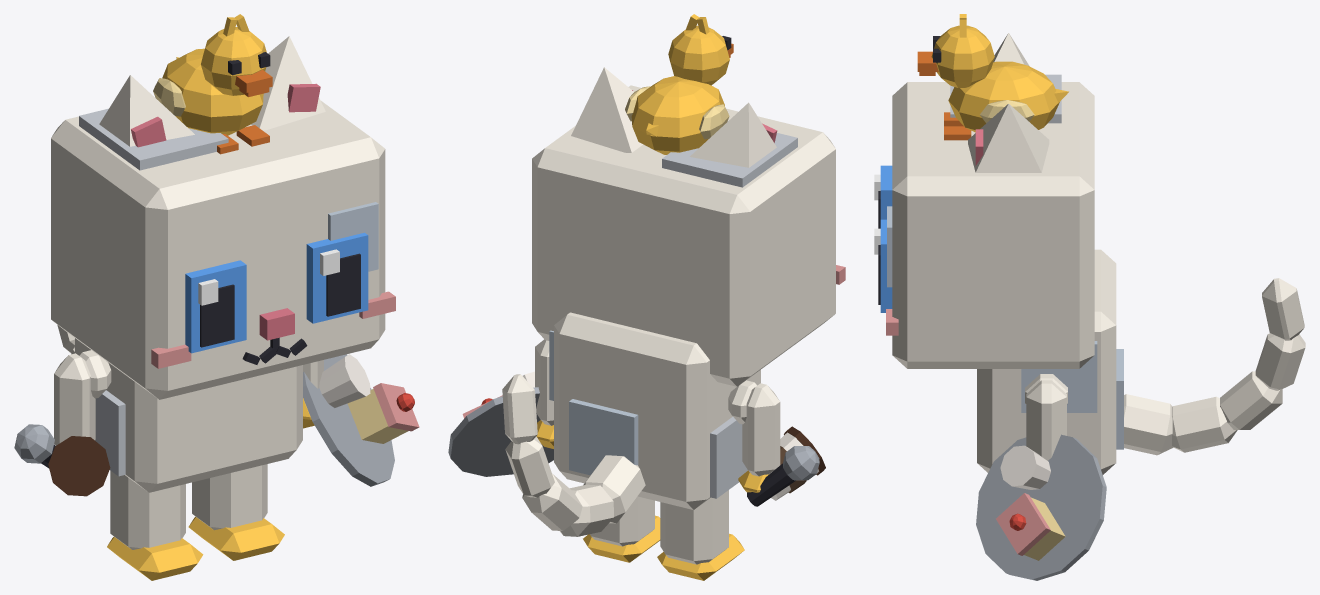
The model's file is CatCafe_Cat_Duckling_Work.glb.
The picture shows the model from 3 angles, left to right: view 1: azimuth 30°, elevation 25°; view 2: azimuth 150°, elevation 25°; view 3: azimuth 270°, elevation 25°; orthographic projection. The views are drawn at different scales.
Parts seen in each view (by area): view 1: CatCafe_Cat_Duckling_Work_Head, CatCafe_Cat_Duckling_Work_Body, CatCafe_Cat_Duckling_Work_Prop, CatCafe_Cat_Duckling_Work_Held_Waiter, CatCafe_Cat_Duckling_Work_LegB2, CatCafe_Cat_Duckling_Work_LegB1, CatCafe_Cat_Duckling_Work_Eye2, CatCafe_Cat_Duckling_Work_Eye1, CatCafe_Cat_Duckling_Work_EarL, CatCafe_Cat_Duckling_Work_EarR, CatCafe_Cat_Duckling_Work_LegF2, CatCafe_Cat_Duckling_Work_Held_Barista (+2 smaller); view 2: CatCafe_Cat_Duckling_Work_Head, CatCafe_Cat_Duckling_Work_Body, CatCafe_Cat_Duckling_Work_Tail, CatCafe_Cat_Duckling_Work_Prop, CatCafe_Cat_Duckling_Work_LegB2, CatCafe_Cat_Duckling_Work_Held_Waiter, CatCafe_Cat_Duckling_Work_LegF2, CatCafe_Cat_Duckling_Work_EarL, CatCafe_Cat_Duckling_Work_EarR, CatCafe_Cat_Duckling_Work_LegB1, CatCafe_Cat_Duckling_Work_Held_Entertainer, CatCafe_Cat_Duckling_Work_LegF1 (+1 smaller); view 3: CatCafe_Cat_Duckling_Work_Head, CatCafe_Cat_Duckling_Work_Held_Waiter, CatCafe_Cat_Duckling_Work_Body, CatCafe_Cat_Duckling_Work_Tail, CatCafe_Cat_Duckling_Work_Prop, CatCafe_Cat_Duckling_Work_EarL, CatCafe_Cat_Duckling_Work_LegF1, CatCafe_Cat_Duckling_Work_Eye1, CatCafe_Cat_Duckling_Work_Eye2, CatCafe_Cat_Duckling_Work_EarR.
Boxes of the visible parts, x1,y1,x2,y2 form: CatCafe_Cat_Duckling_Work_Head: [51, 97, 395, 399]; CatCafe_Cat_Duckling_Work_Body: [75, 338, 302, 492]; CatCafe_Cat_Duckling_Work_Prop: [153, 14, 272, 154]; CatCafe_Cat_Duckling_Work_Held_Waiter: [303, 354, 419, 486]; CatCafe_Cat_Duckling_Work_LegB2: [107, 471, 203, 580]; CatCafe_Cat_Duckling_Work_LegB1: [188, 464, 284, 560]; CatCafe_Cat_Duckling_Work_Eye2: [185, 260, 246, 353]; CatCafe_Cat_Duckling_Work_Eye1: [306, 232, 368, 323]; CatCafe_Cat_Duckling_Work_EarL: [251, 36, 325, 130]; CatCafe_Cat_Duckling_Work_EarR: [99, 75, 194, 147]; CatCafe_Cat_Duckling_Work_LegF2: [54, 353, 95, 445]; CatCafe_Cat_Duckling_Work_Held_Barista: [48, 436, 110, 496]; CatCafe_Cat_Duckling_Work_Head: [532, 85, 845, 386]; CatCafe_Cat_Duckling_Work_Body: [549, 312, 760, 509]; CatCafe_Cat_Duckling_Work_Tail: [502, 374, 645, 536]; CatCafe_Cat_Duckling_Work_Prop: [625, 14, 733, 154]; CatCafe_Cat_Duckling_Work_LegB2: [657, 490, 744, 580]; CatCafe_Cat_Duckling_Work_Held_Waiter: [448, 371, 553, 476]; CatCafe_Cat_Duckling_Work_LegF2: [738, 383, 780, 492]; CatCafe_Cat_Duckling_Work_EarL: [571, 67, 642, 152]; CatCafe_Cat_Duckling_Work_EarR: [690, 102, 777, 167]; CatCafe_Cat_Duckling_Work_LegB1: [583, 496, 660, 562]; CatCafe_Cat_Duckling_Work_Held_Entertainer: [747, 446, 819, 506]; CatCafe_Cat_Duckling_Work_LegF1: [535, 339, 553, 448]; CatCafe_Cat_Duckling_Work_Head: [886, 74, 1094, 368]; CatCafe_Cat_Duckling_Work_Held_Waiter: [976, 434, 1106, 580]; CatCafe_Cat_Duckling_Work_Body: [977, 249, 1123, 474]; CatCafe_Cat_Duckling_Work_Tail: [1124, 278, 1305, 455]; CatCafe_Cat_Duckling_Work_Prop: [917, 14, 1068, 140]; CatCafe_Cat_Duckling_Work_EarL: [968, 103, 1049, 172]; CatCafe_Cat_Duckling_Work_LegF1: [1026, 380, 1066, 460]; CatCafe_Cat_Duckling_Work_Eye1: [874, 219, 892, 312]; CatCafe_Cat_Duckling_Work_Eye2: [874, 165, 892, 228]; CatCafe_Cat_Duckling_Work_EarR: [993, 33, 1029, 66].
Size of the model in its own units: 1.53 by 2.14 by 1.62.
1 material, 1 textured.
